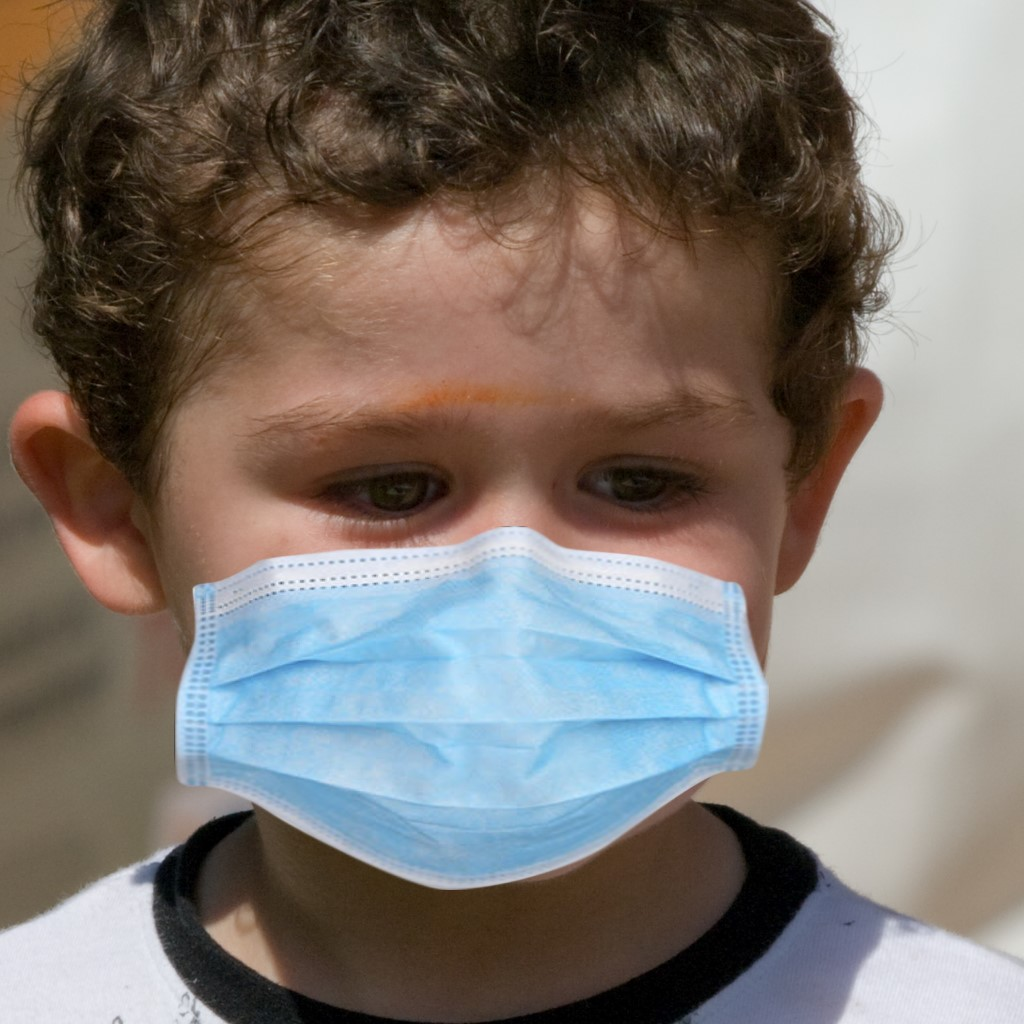con_mascara: (111, 105, 802, 924)
